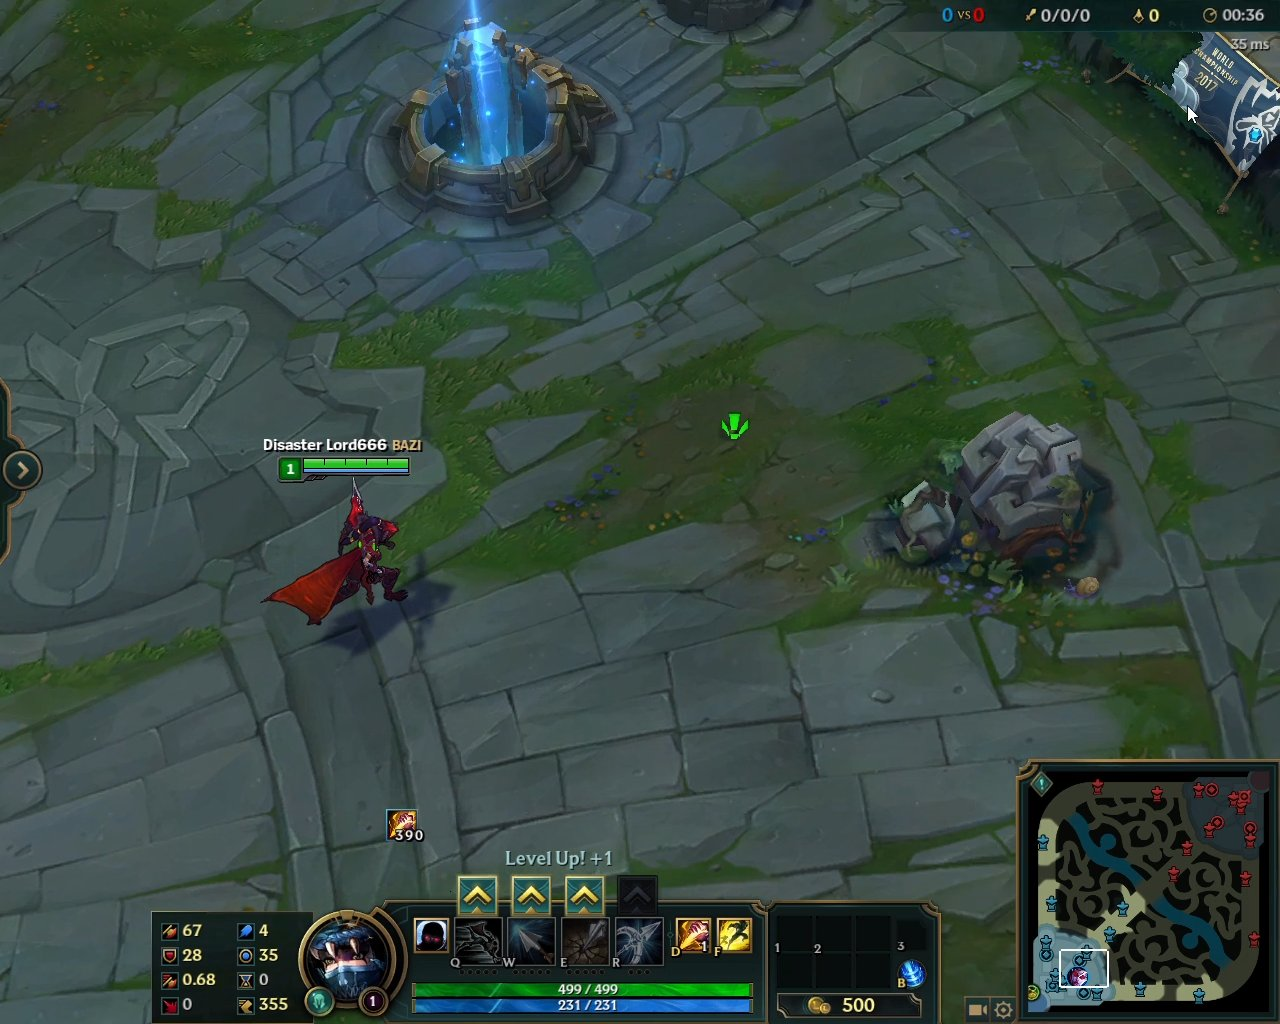Vayne: (259, 479, 408, 629)
